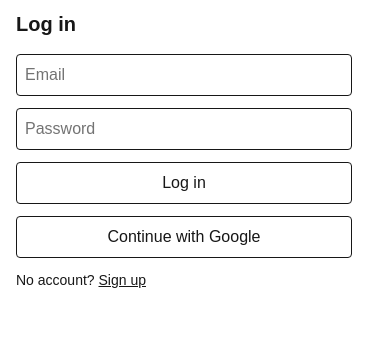
shows error message on email/password login failure
The image size is (369, 337).
Type "bad@example.com" into the field with placeholder "Email". click: (184, 75)
box: [16, 54, 352, 96]
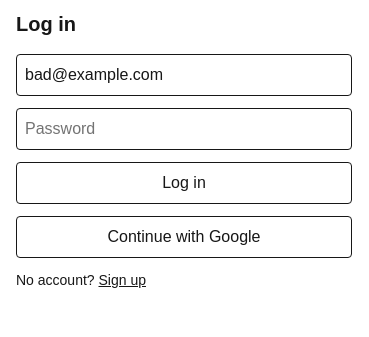
Type "wrong" into the password field with placeholder "Password". click: (184, 129)
box: [16, 108, 352, 150]
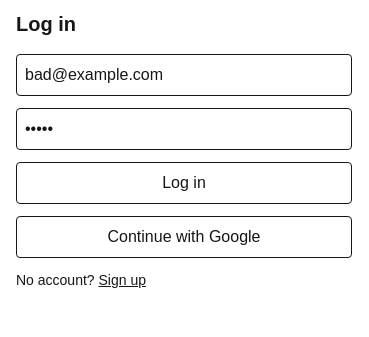
Click the button "Log in". click: (184, 183)
box: [16, 162, 352, 204]
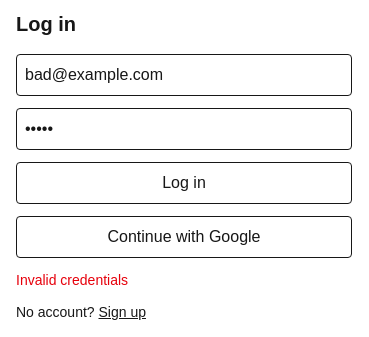
Now the text "Invalid credentials" is shown, box [16, 272, 128, 288]
